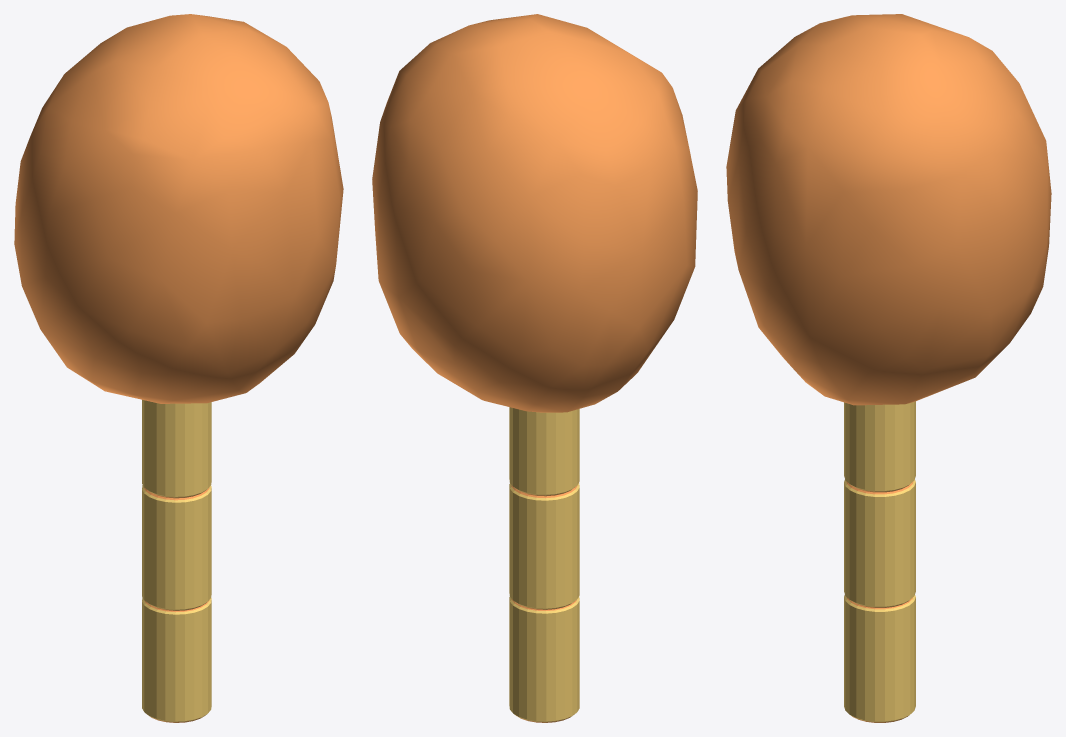
Rendered from Tree_4.fbx.
3 views of the same model, side by side, from view 1: azimuth 30°, elevation 25°; view 2: azimuth 150°, elevation 25°; view 3: azimuth 270°, elevation 25° (orthographic). The views are drawn at different scales.
Parts seen in each view (by area): view 1: rock.062, Cylinder.181, Cylinder.180, Cylinder.182; view 2: rock.062, Cylinder.181, Cylinder.180, Cylinder.182; view 3: rock.062, Cylinder.181, Cylinder.180, Cylinder.182.
Part boxes in pixels (bbox=[...]): rock.062: bbox=[14, 14, 343, 403]; Cylinder.181: bbox=[142, 485, 211, 610]; Cylinder.180: bbox=[142, 597, 211, 722]; Cylinder.182: bbox=[142, 400, 211, 498]; rock.062: bbox=[372, 14, 697, 412]; Cylinder.181: bbox=[509, 483, 579, 609]; Cylinder.180: bbox=[509, 596, 579, 722]; Cylinder.182: bbox=[509, 407, 579, 496]; rock.062: bbox=[726, 14, 1051, 405]; Cylinder.181: bbox=[844, 479, 915, 607]; Cylinder.180: bbox=[844, 594, 915, 722]; Cylinder.182: bbox=[844, 401, 915, 492].
Bounding box in the file's own units: 270 × 614 × 262.
